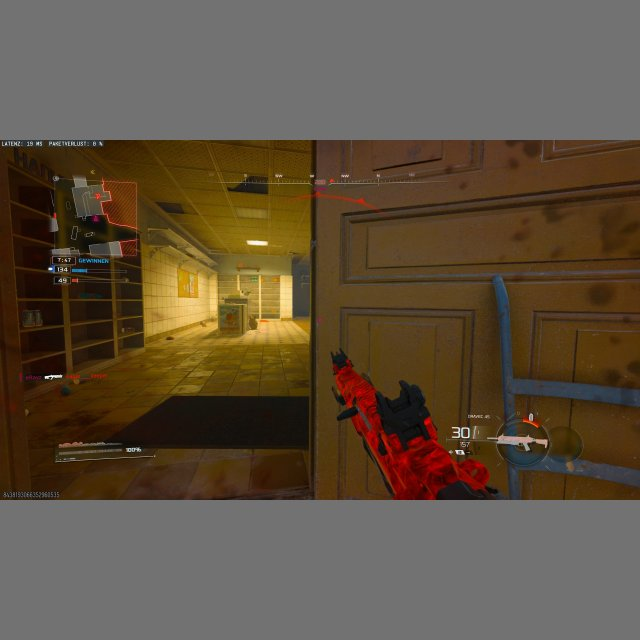head: (457, 459, 489, 489)
